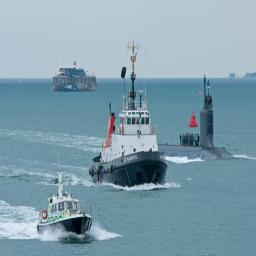submarine: (159, 76, 238, 160)
